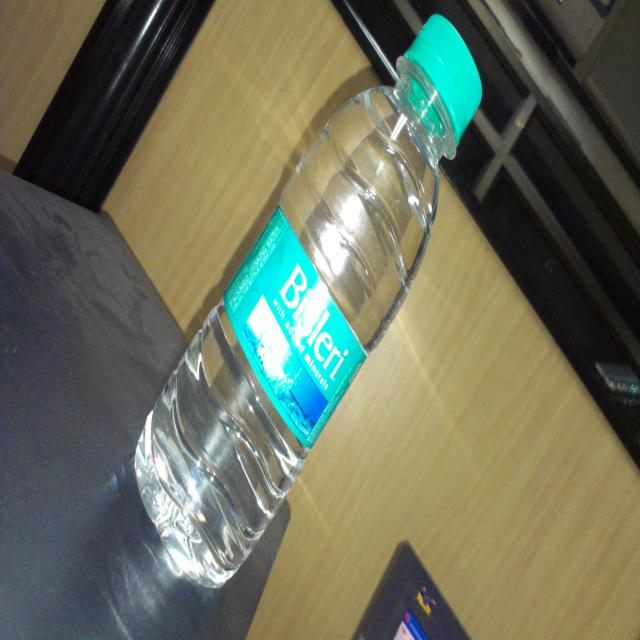bottle: (124, 9, 490, 594)
